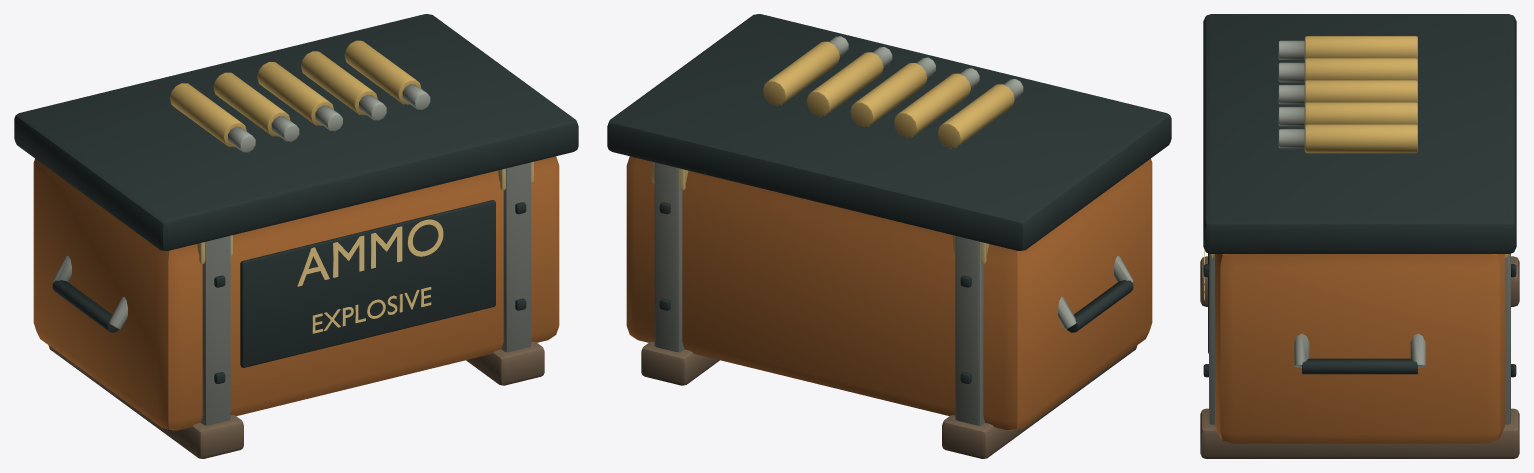
File: kf-munitions.glb
The picture shows the model from 3 angles, left to right: view 1: azimuth 30°, elevation 25°; view 2: azimuth 150°, elevation 25°; view 3: azimuth 270°, elevation 25°; orthographic projection. The views are drawn at different scales.
Parts seen in each view (by area): view 1: MunitionsCrate Charcoal metal, MunitionsCrate Munitions orange, MunitionsCrate Exposed steel, MunitionsCrate Cartridge brass, MunitionsCrate Crate timber, MunitionsCrate Hazard ivory; view 2: MunitionsCrate Munitions orange, MunitionsCrate Charcoal metal, MunitionsCrate Exposed steel, MunitionsCrate Cartridge brass, MunitionsCrate Crate timber; view 3: MunitionsCrate Charcoal metal, MunitionsCrate Munitions orange, MunitionsCrate Cartridge brass, MunitionsCrate Crate timber, MunitionsCrate Exposed steel.
Boxes of the visible parts, x1,y1,x2,y2 form: MunitionsCrate Charcoal metal: [14, 14, 578, 383]; MunitionsCrate Munitions orange: [33, 156, 559, 430]; MunitionsCrate Exposed steel: [52, 84, 531, 425]; MunitionsCrate Cartridge brass: [170, 40, 421, 147]; MunitionsCrate Crate timber: [48, 341, 544, 458]; MunitionsCrate Hazard ivory: [196, 161, 533, 333]; MunitionsCrate Munitions orange: [626, 156, 1152, 430]; MunitionsCrate Charcoal metal: [607, 14, 1171, 383]; MunitionsCrate Exposed steel: [654, 36, 1133, 425]; MunitionsCrate Cartridge brass: [763, 41, 1014, 148]; MunitionsCrate Crate timber: [641, 341, 1137, 458]; MunitionsCrate Charcoal metal: [1203, 14, 1516, 377]; MunitionsCrate Munitions orange: [1215, 254, 1504, 443]; MunitionsCrate Cartridge brass: [1304, 36, 1417, 153]; MunitionsCrate Crate timber: [1200, 256, 1519, 458]; MunitionsCrate Exposed steel: [1209, 40, 1510, 424].
Size of the model in its own units: 1.78 by 1.11 by 1.1.
